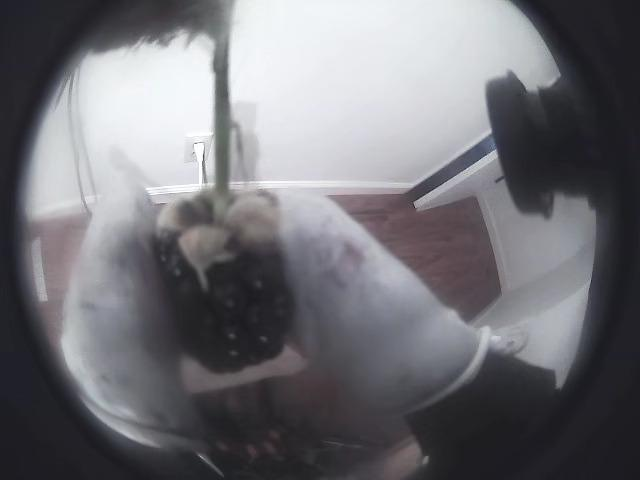berry: (154, 31, 294, 372)
gripper: (280, 195, 496, 416), (60, 168, 199, 447)
lense: (448, 0, 639, 479), (0, 0, 189, 479)
